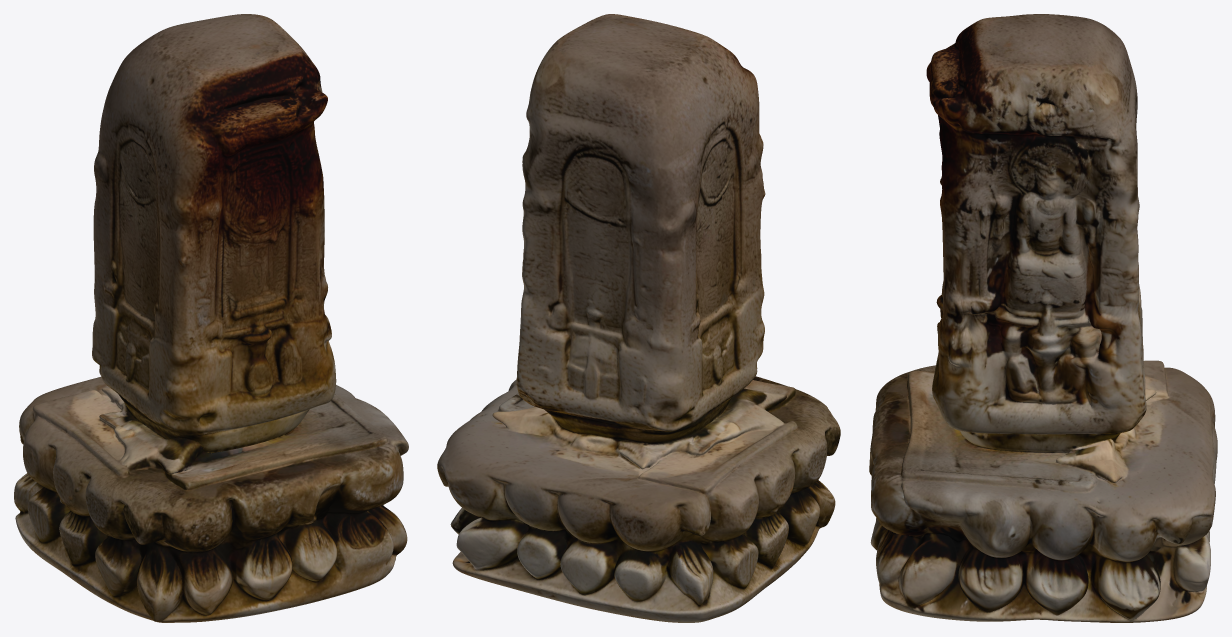
3 renders of one model, left to right at view 1: azimuth 30°, elevation 25°; view 2: azimuth 150°, elevation 25°; view 3: azimuth 270°, elevation 25°, orthographic. The views are drawn at different scales.
Parts seen in each view (by area): view 1: tripo_node_5b6aa13f-3c91-49fc-a31c-85190e39a0e5; view 2: tripo_node_5b6aa13f-3c91-49fc-a31c-85190e39a0e5; view 3: tripo_node_5b6aa13f-3c91-49fc-a31c-85190e39a0e5.
Boxes of the visible parts, box(x1,y1,x2,y2) form: tripo_node_5b6aa13f-3c91-49fc-a31c-85190e39a0e5: box(14, 14, 408, 622); tripo_node_5b6aa13f-3c91-49fc-a31c-85190e39a0e5: box(437, 14, 840, 622); tripo_node_5b6aa13f-3c91-49fc-a31c-85190e39a0e5: box(869, 14, 1217, 622).
Size of the model in its own units: 0.6047 by 1 by 0.5898.
1 material, 1 textured.
